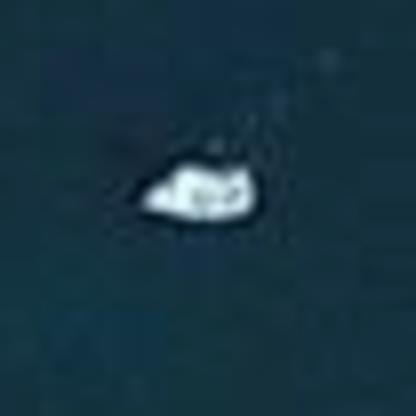ship: (132, 154, 272, 230)
